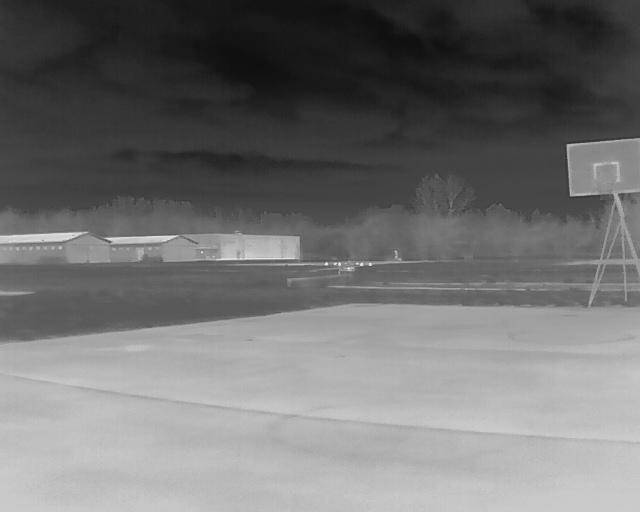drone: (317, 256, 372, 289)
